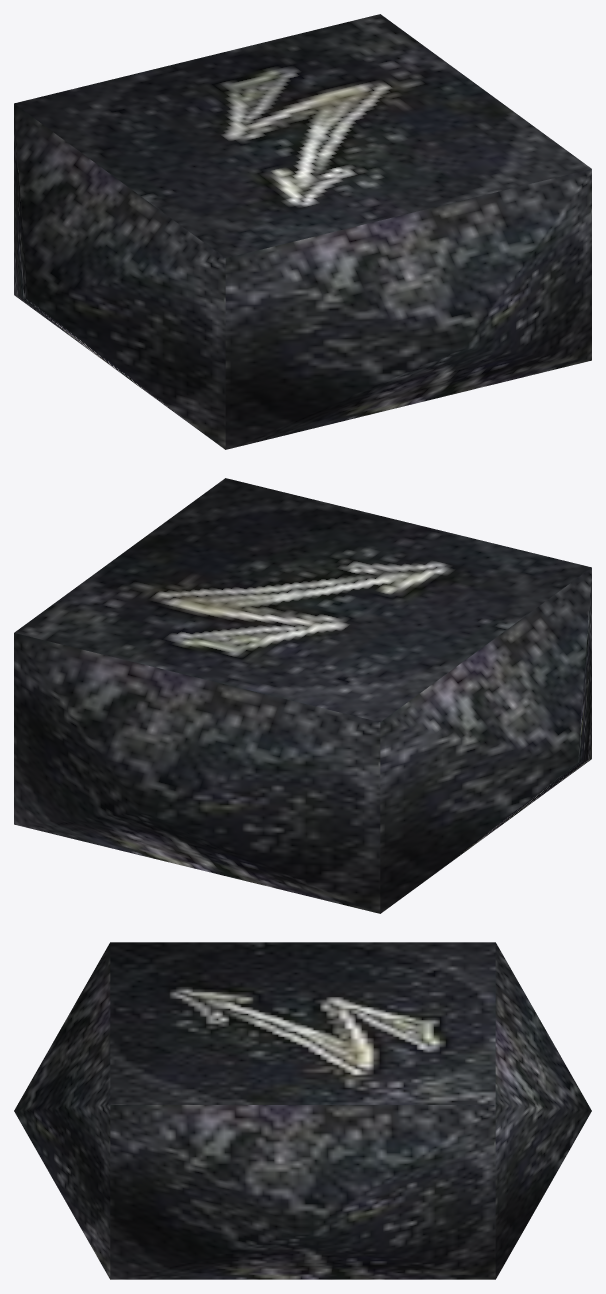
Rendered from ITRU_LIGHTNINGFLASH.glb.
3 views of the same model, one above another, from view 1: azimuth 30°, elevation 25°; view 2: azimuth 150°, elevation 25°; view 3: azimuth 270°, elevation 25° (orthographic). The views are drawn at different scales.
Visible parts, largest first — view 1: Mesh; view 2: Mesh; view 3: Mesh.
Part boxes in pixels (x1,y1,x2,y2): Mesh: (14,14,591,449); Mesh: (14,478,591,913); Mesh: (14,942,591,1279).
Bounding box in the file's own units: 0.27 × 0.09 × 0.27.
1 material, 1 textured.
